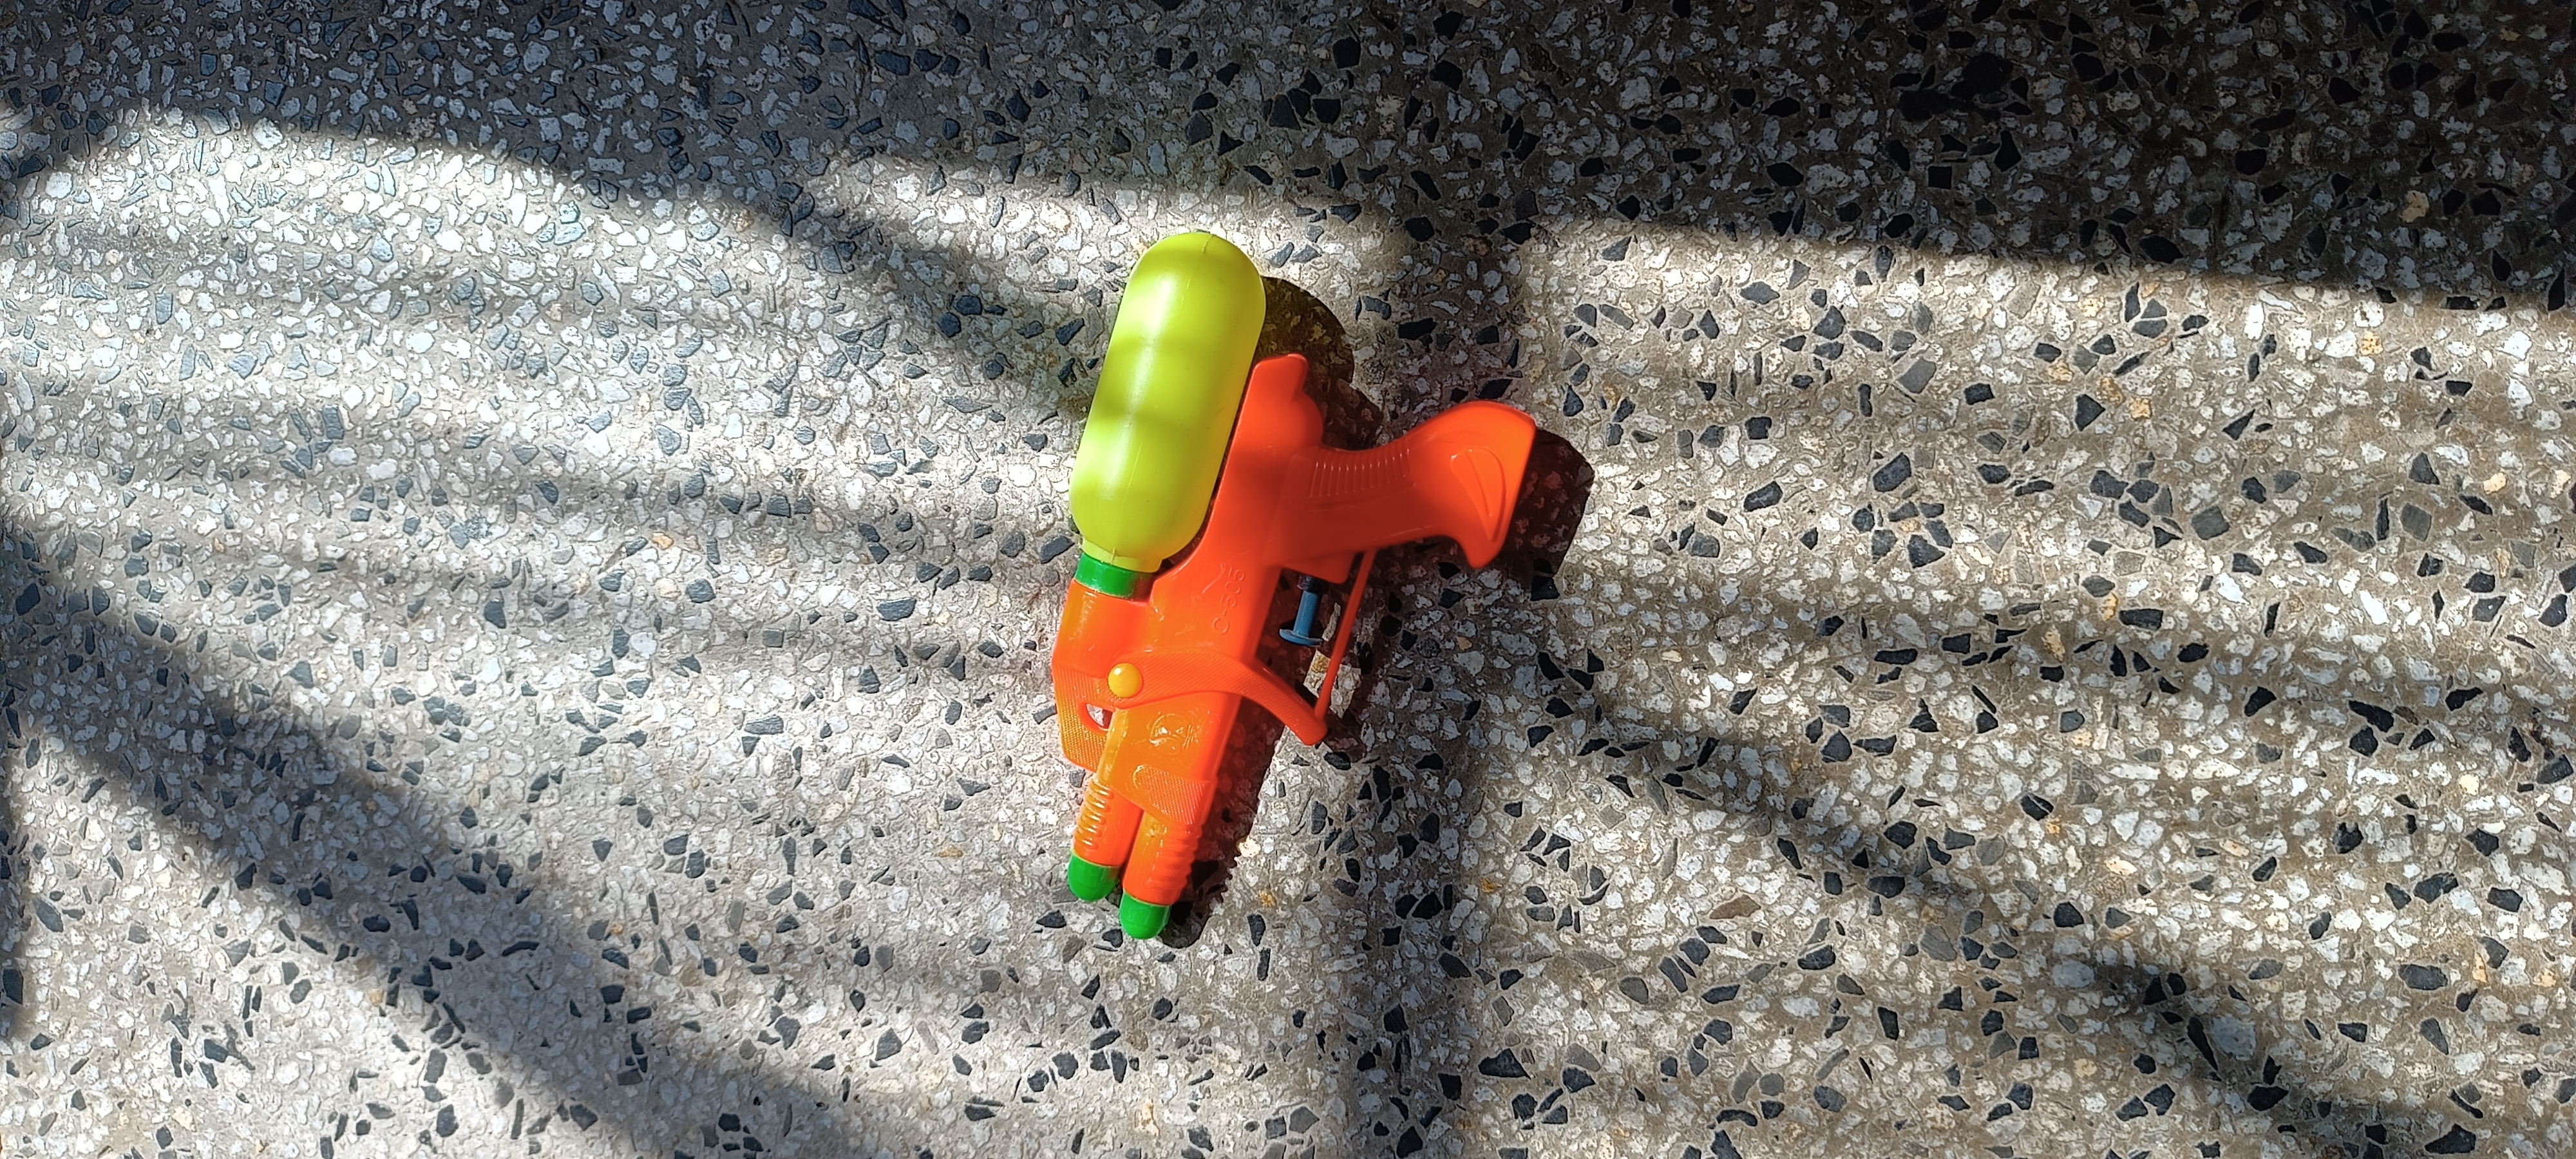Water Gun: (1050, 230, 1536, 942)
